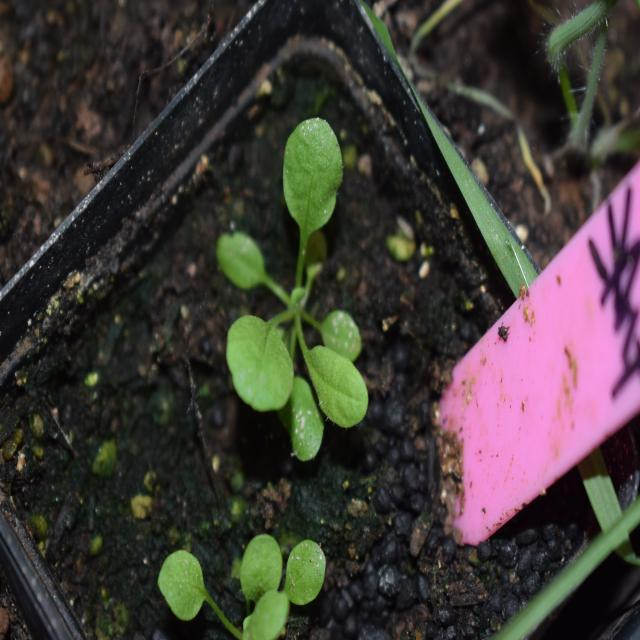Shepherd_Purse: (217, 101, 392, 461), (156, 525, 339, 625)
